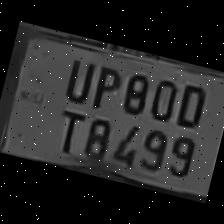0: (143, 71, 181, 122)
4: (105, 114, 144, 168)
8: (75, 110, 114, 162), (116, 65, 154, 117)
9: (160, 126, 200, 178), (132, 120, 170, 173)
D: (170, 76, 213, 130)
P: (86, 58, 125, 114)
T: (46, 103, 86, 156)
U: (57, 50, 98, 104)
